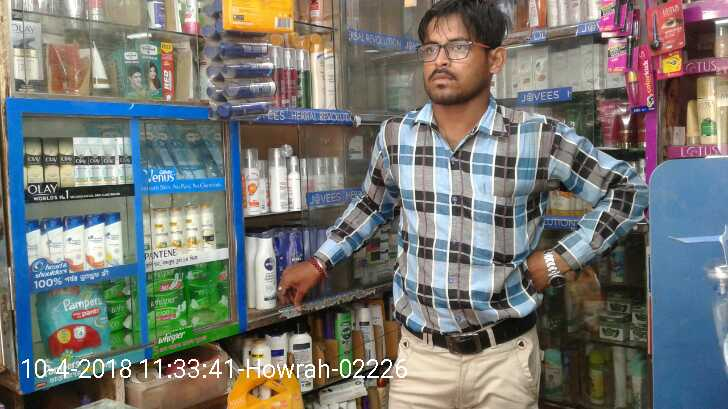venus: (156, 124, 183, 176), (183, 124, 209, 176), (209, 124, 223, 176)
